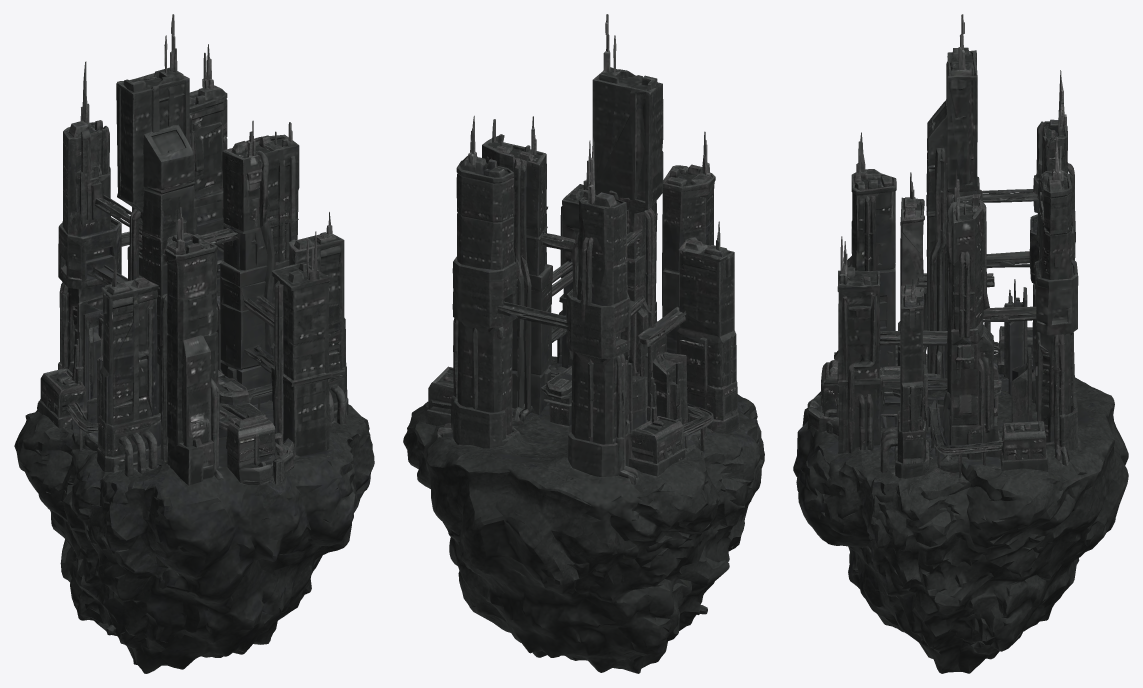
File: kafrenering.glb
The picture shows the model from 3 angles, left to right: view 1: azimuth 30°, elevation 25°; view 2: azimuth 150°, elevation 25°; view 3: azimuth 270°, elevation 25°; orthographic projection. The views are drawn at different scales.
Visible parts, largest first — view 1: kafrenering-centred; view 2: kafrenering-centred; view 3: kafrenering-centred.
Boxes of the visible parts, x1,y1,x2,y2 form: kafrenering-centred: (14,14,374,673); kafrenering-centred: (403,14,764,673); kafrenering-centred: (793,14,1128,673).
Size of the model in its own units: 43.27 by 90 by 43.81.
1 material, 1 textured.
